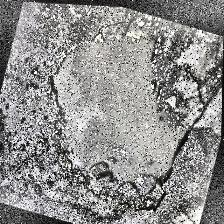pothole: (21, 2, 213, 224)
